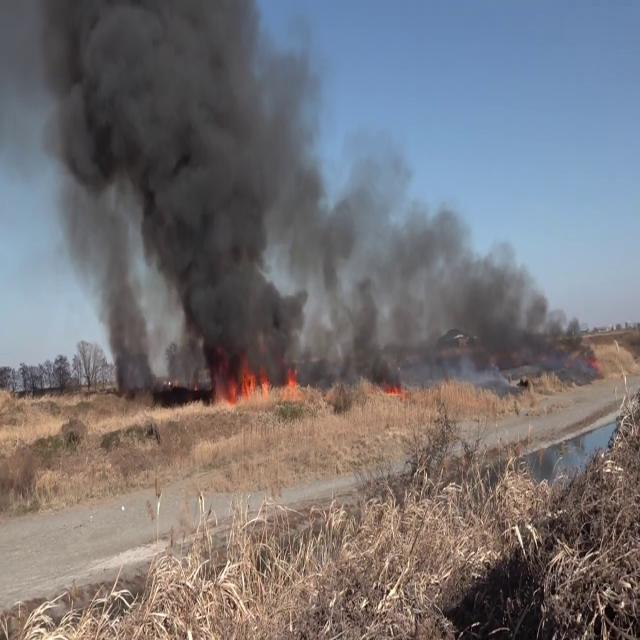Fire: (208, 348, 306, 401)
Smoke: (29, 0, 330, 383), (310, 141, 589, 383)
